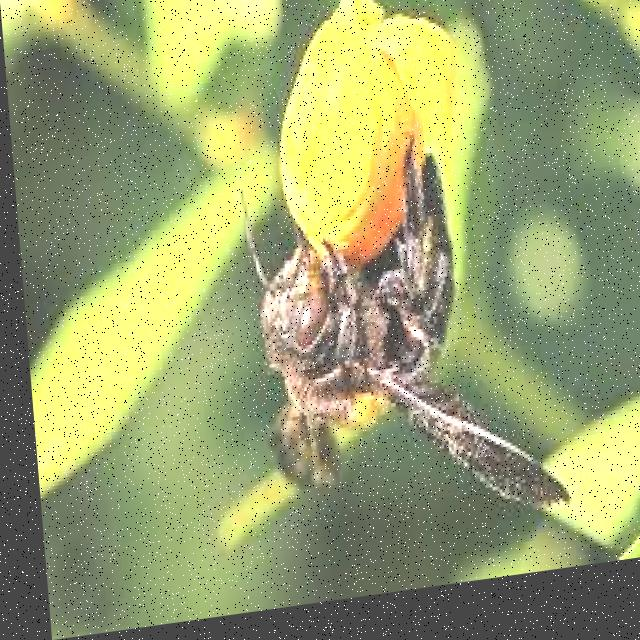Xylocopa: (185, 66, 554, 570)
